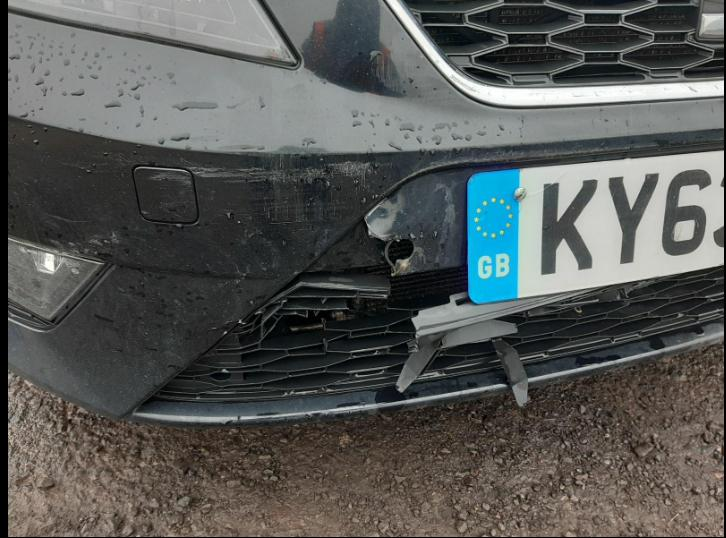Front-bumper: (7, 1, 725, 426)
Grille: (386, 0, 726, 106)
Headlight: (7, 1, 300, 69)
License-plate: (467, 149, 726, 304)
